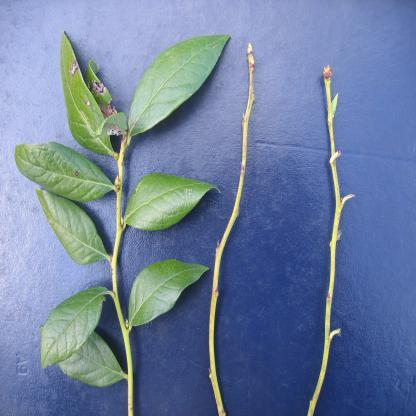Blueberry leaf: (124, 30, 238, 151), (122, 163, 226, 256), (35, 173, 109, 285), (118, 258, 214, 332), (19, 130, 112, 204), (37, 284, 112, 374), (60, 312, 131, 398)
